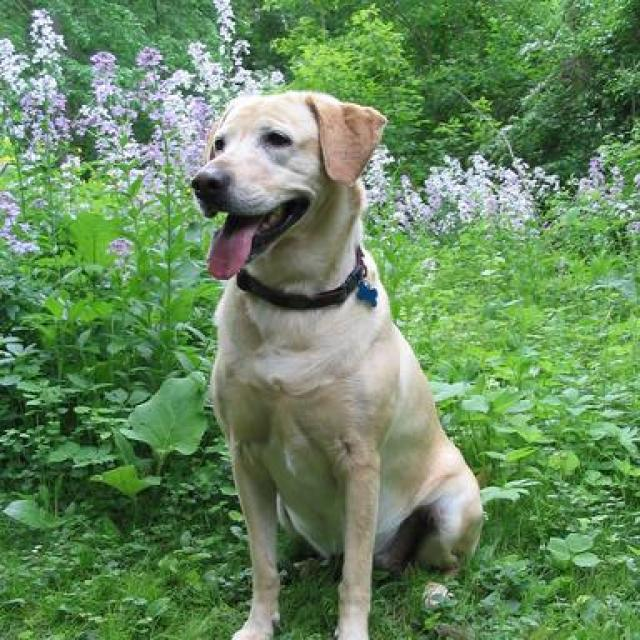happy: (166, 56, 501, 640)
